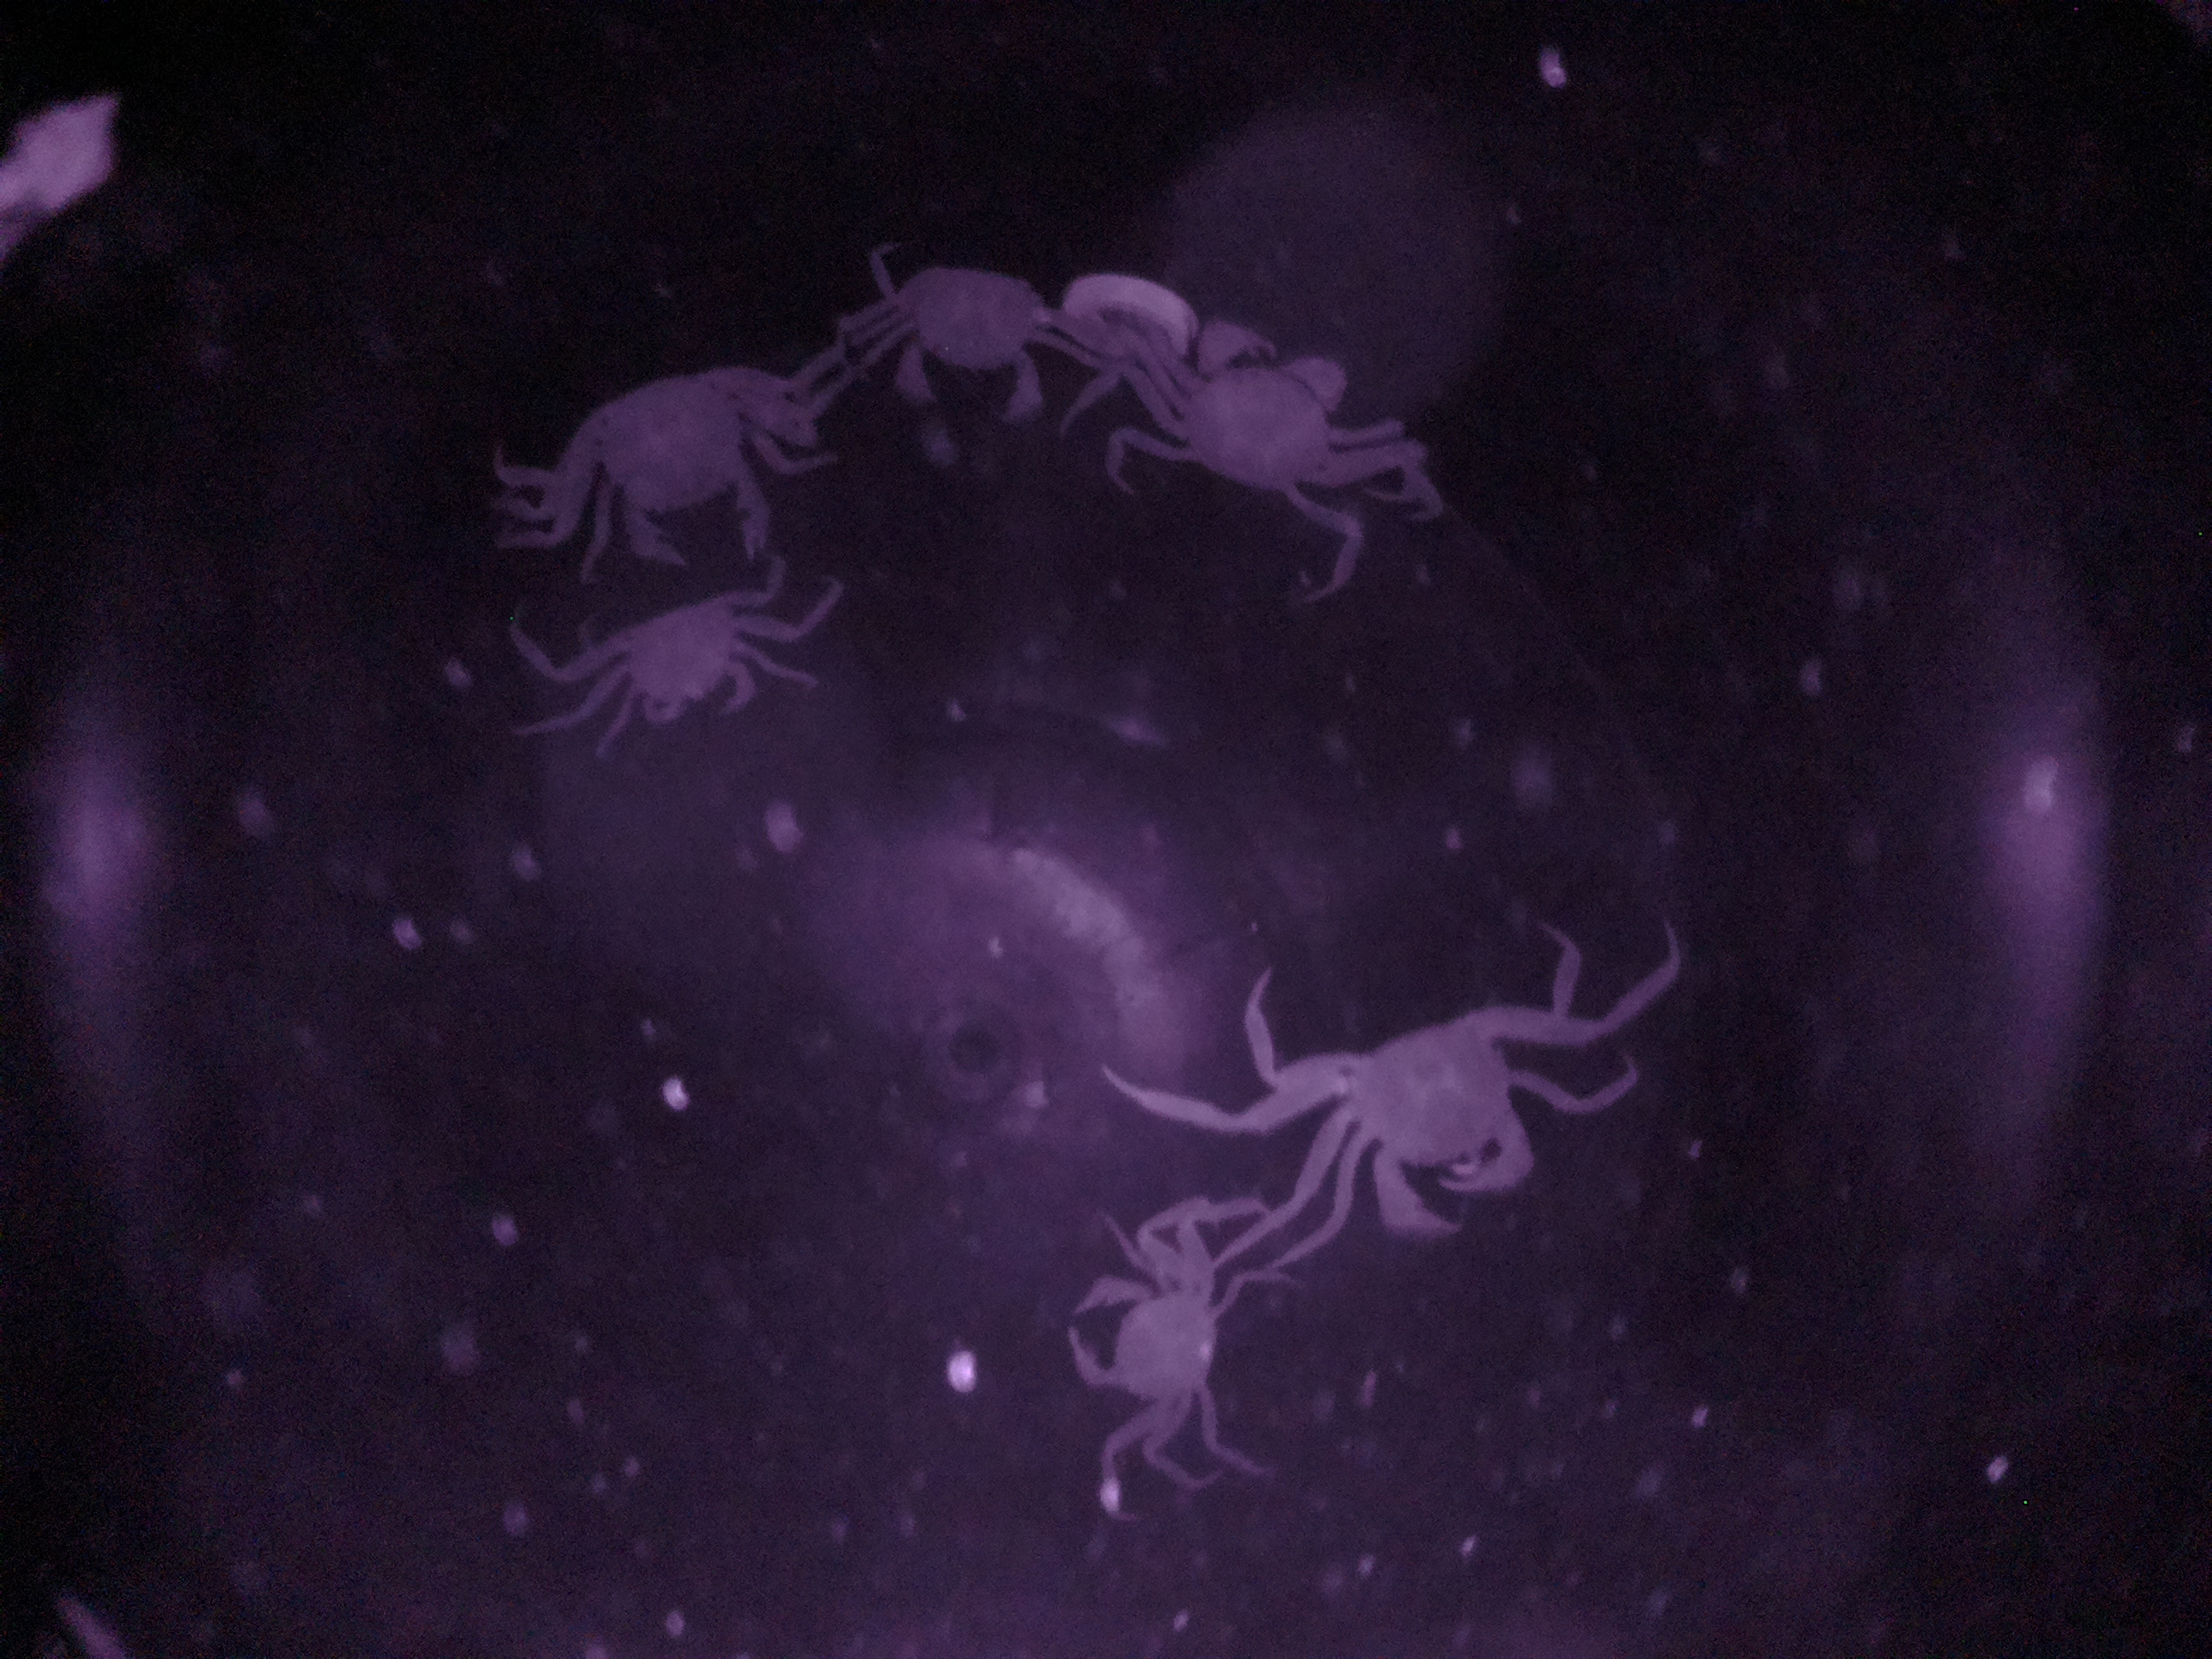Crab: (1285, 990, 1548, 1244), (529, 361, 808, 570), (1134, 314, 1381, 523), (1055, 1248, 1271, 1445), (880, 249, 1082, 434), (571, 599, 801, 737)
